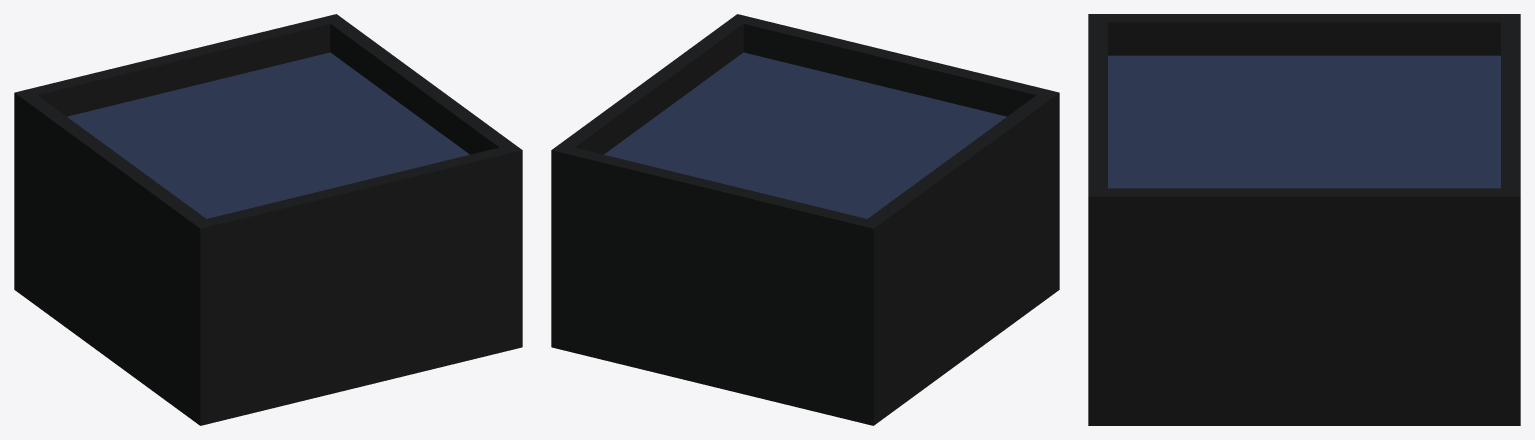
Rendered from Arena.fbx.
3 renders of one model, left to right at view 1: azimuth 30°, elevation 25°; view 2: azimuth 150°, elevation 25°; view 3: azimuth 270°, elevation 25°, orthographic. The views are drawn at different scales.
Parts seen in each view (by area): view 1: Arena_Mesh; view 2: Arena_Mesh; view 3: Arena_Mesh.
Boxes of the visible parts, bbox=[...] form: Arena_Mesh: bbox=[14, 14, 522, 425]; Arena_Mesh: bbox=[551, 14, 1059, 425]; Arena_Mesh: bbox=[1088, 14, 1520, 425].
Bounding box in the file's own units: 564 × 330 × 564.
